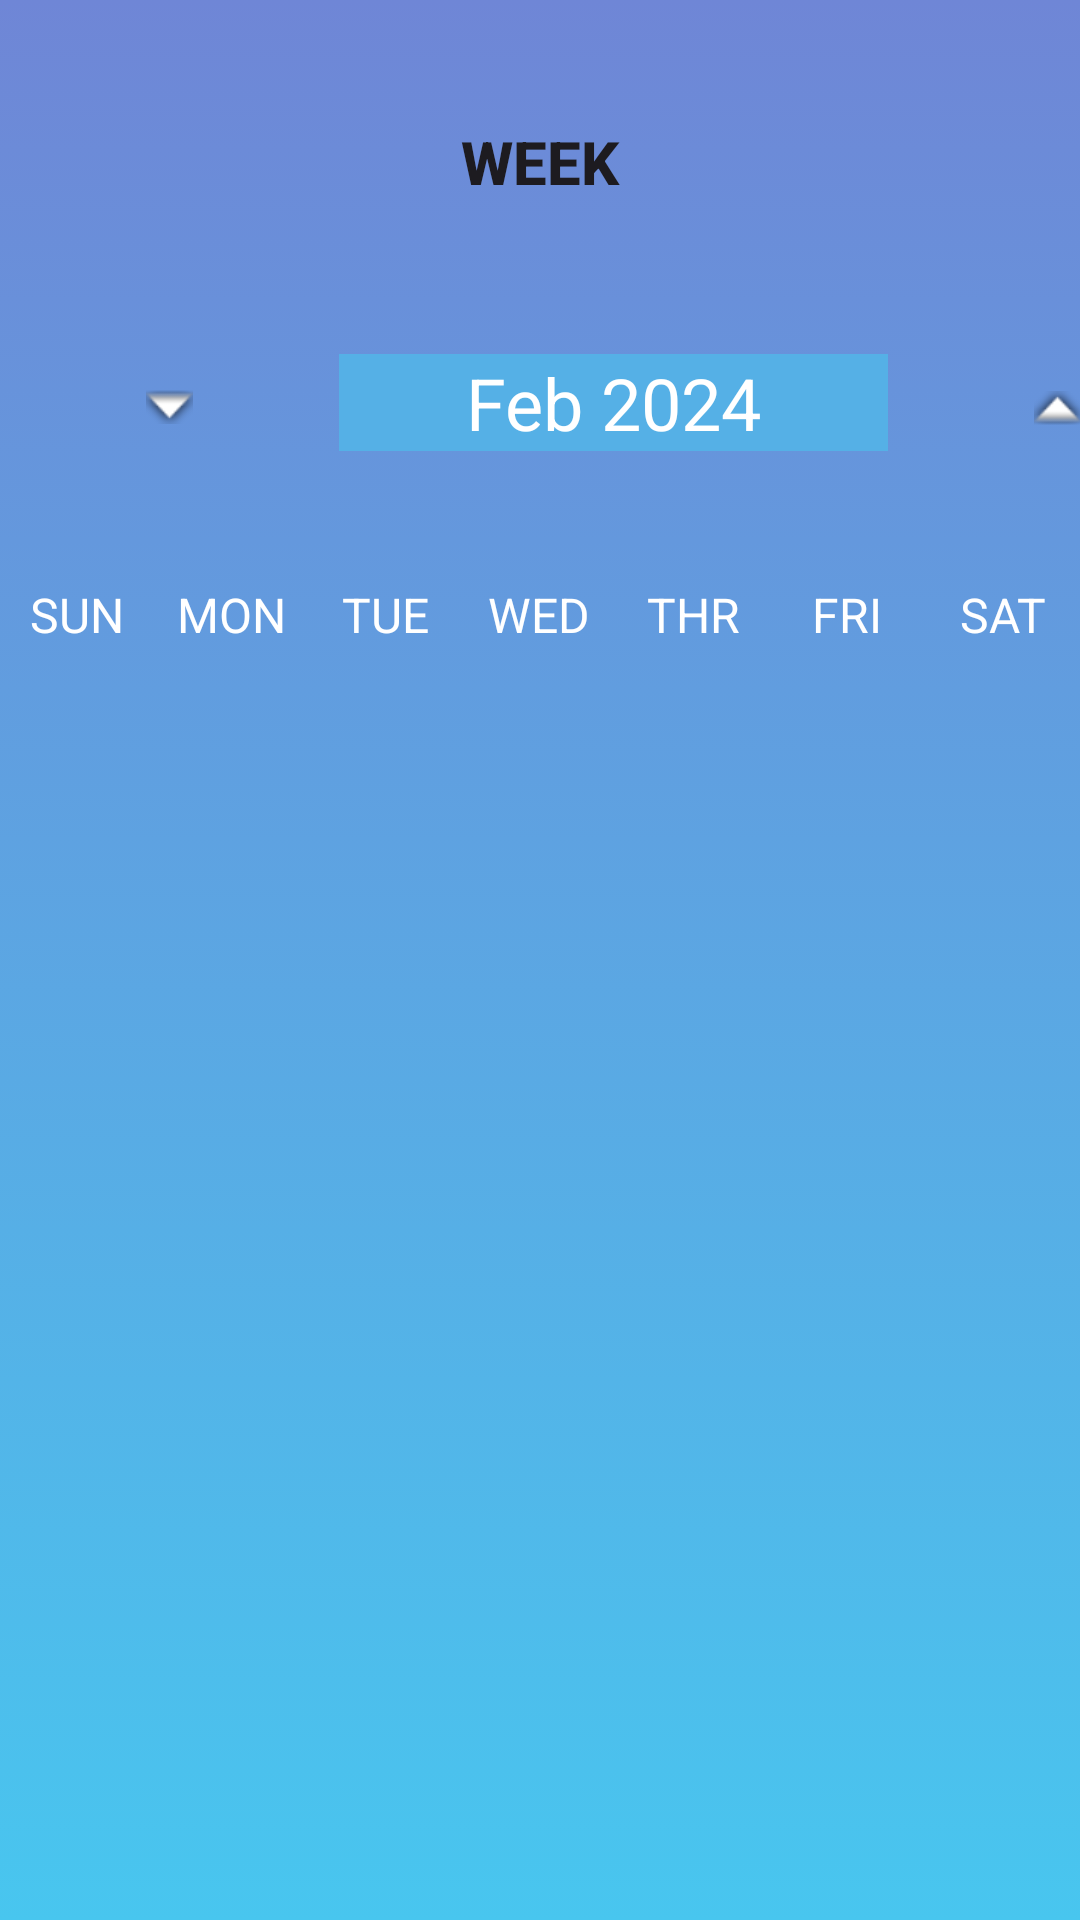

Icons on this 1080px×1920px Android screen, each with the point to tap as (x,y):
Scroll Back: (169,406)
